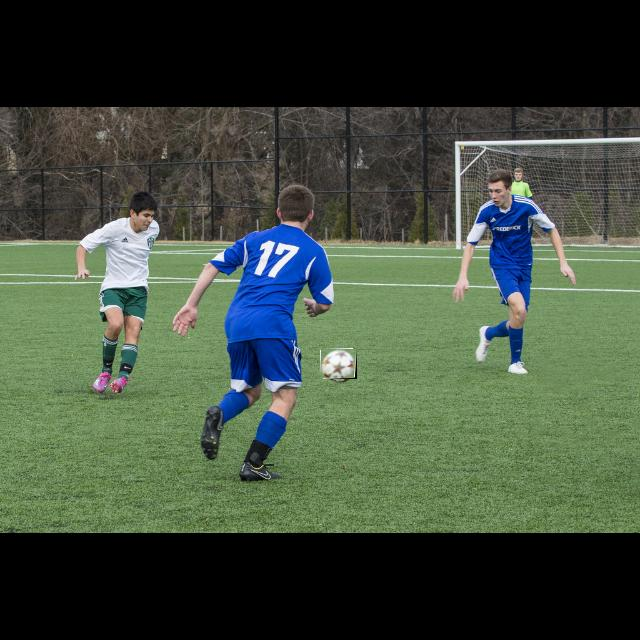Football: (321, 349, 357, 379)
